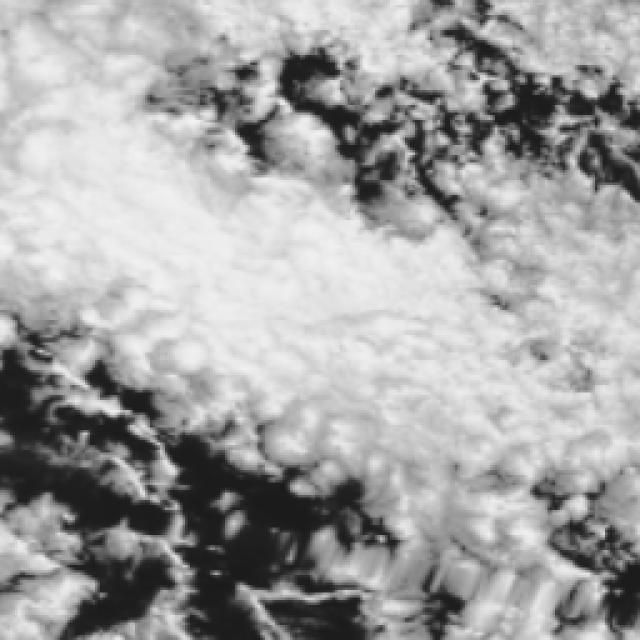CB: (6, 87, 140, 276), (278, 252, 446, 399), (154, 205, 342, 333)
